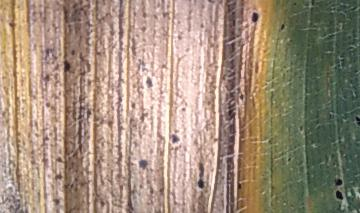tarspot: (197, 161, 205, 190), (137, 158, 148, 170), (335, 188, 344, 202), (333, 176, 344, 187), (251, 10, 259, 24), (170, 133, 181, 143), (64, 59, 71, 72), (239, 90, 245, 103), (145, 76, 152, 87), (355, 116, 360, 127), (237, 182, 242, 190), (280, 23, 285, 31)
